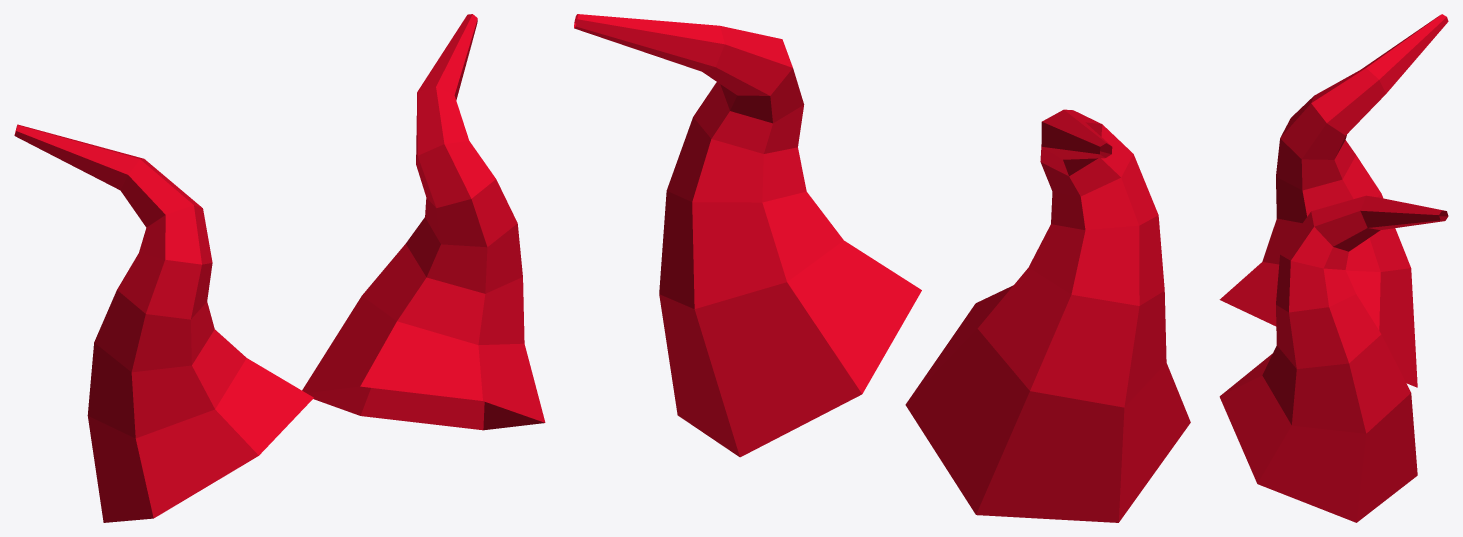
The model's file is Horns.fbx.
The picture shows the model from 3 angles, left to right: view 1: azimuth 30°, elevation 25°; view 2: azimuth 150°, elevation 25°; view 3: azimuth 270°, elevation 25°; orthographic projection. The views are drawn at different scales.
Visible parts, largest first — view 1: NurbsPath; view 2: NurbsPath; view 3: NurbsPath.
Boxes of the visible parts, <box> form: NurbsPath: <box>14,14,545,522</box>; NurbsPath: <box>574,14,1190,522</box>; NurbsPath: <box>1219,14,1448,522</box>.
Bounding box in the file's own units: 69.07 × 53 × 33.47.
